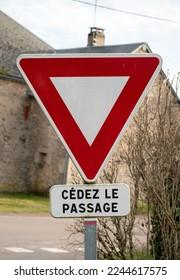Give Way: (11, 39, 163, 183)
